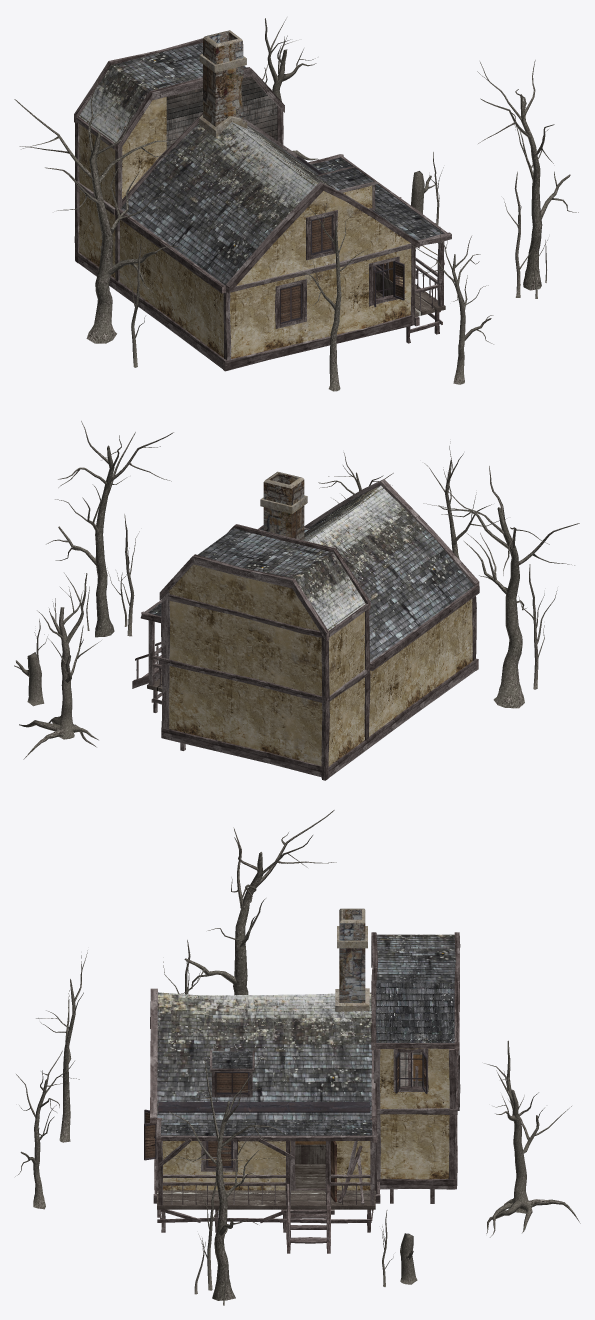
Rendered from CasaLider.fbx.
3 renders of one model, top to bottom at view 1: azimuth 30°, elevation 25°; view 2: azimuth 150°, elevation 25°; view 3: azimuth 270°, elevation 25°, orthographic.
Visible parts, largest first — view 1: Walls, Roof, Beames, Tree, Chimney, Cieling, Windows, OutSide_Floor; view 2: Walls, Roof, Beames, Tree, Chimney; view 3: Roof, Beames, Tree, Walls, OutSide_Floor, Chimney, Windows, Inside_Floor, Inside_Wall_Wood.
Boxes of the visible parts, box(x1,y1,x2,y2) form: Walls: box(79, 97, 411, 358); Roof: box(79, 43, 443, 285); Beames: box(74, 38, 451, 371); Tree: box(14, 18, 578, 391); Chimney: box(199, 30, 247, 137); Cieling: box(166, 76, 329, 244); Windows: box(279, 215, 404, 324); OutSide_Floor: box(415, 284, 445, 316); Walls: box(169, 564, 472, 766); Roof: box(148, 485, 473, 662); Beames: box(132, 479, 479, 780); Tree: box(14, 421, 579, 759); Chimney: box(260, 471, 307, 540); Roof: box(157, 934, 455, 1135); Beames: box(150, 932, 460, 1253); Tree: box(15, 810, 580, 1305); Walls: box(162, 1048, 449, 1190); OutSide_Floor: box(157, 1190, 375, 1209); Chimney: box(335, 908, 369, 1011); Windows: box(144, 1052, 427, 1167); Inside_Floor: box(208, 1157, 325, 1188); Inside_Wall_Wood: box(221, 1081, 422, 1164).
Bounding box in the file's own units: 3008 × 1477 × 2762.
